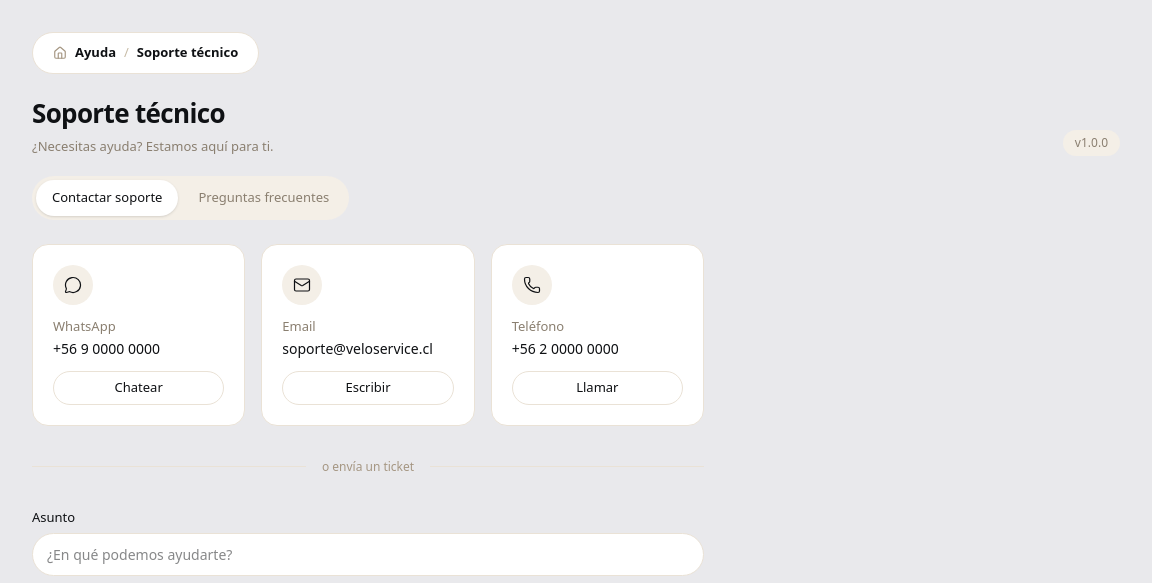
SoportePage › switching back to contactar shows contact content
The image size is (1152, 583).
Click the tab "Preguntas frecuentes": point(264, 198) [182,180,345,216]
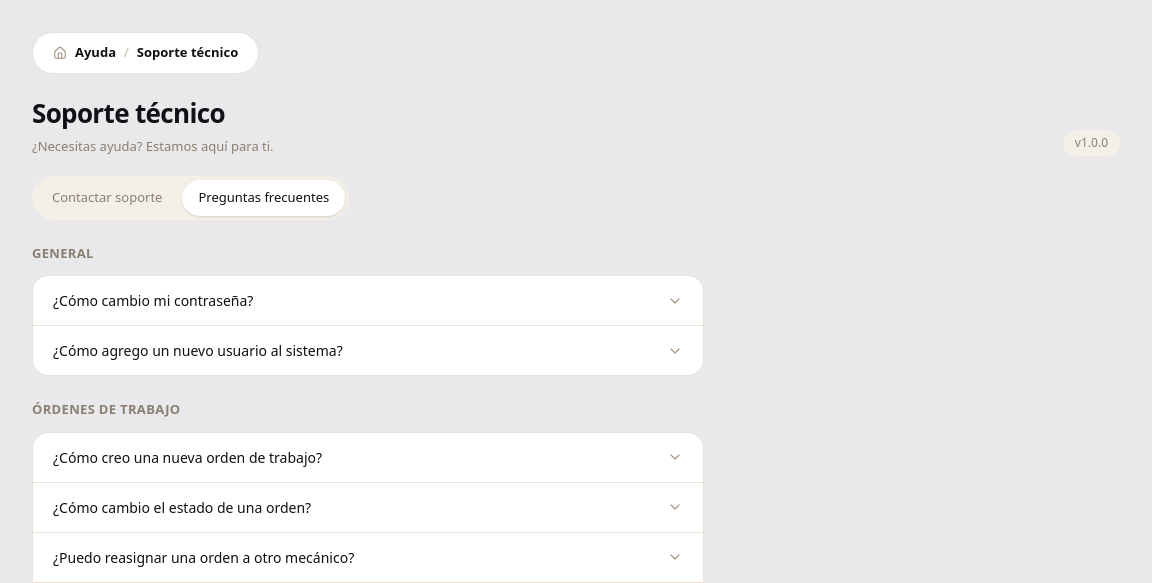
Click the tab "Contactar soporte": point(107, 198) [36,180,178,216]
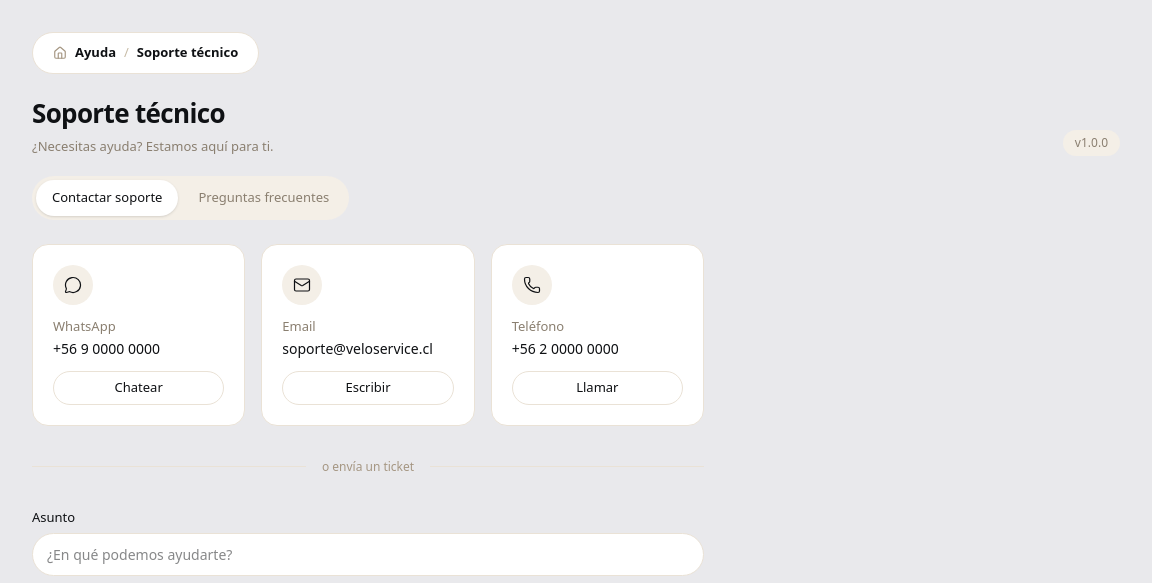
Check: the text "WhatsApp" is shown, box [53,316,116,334]
